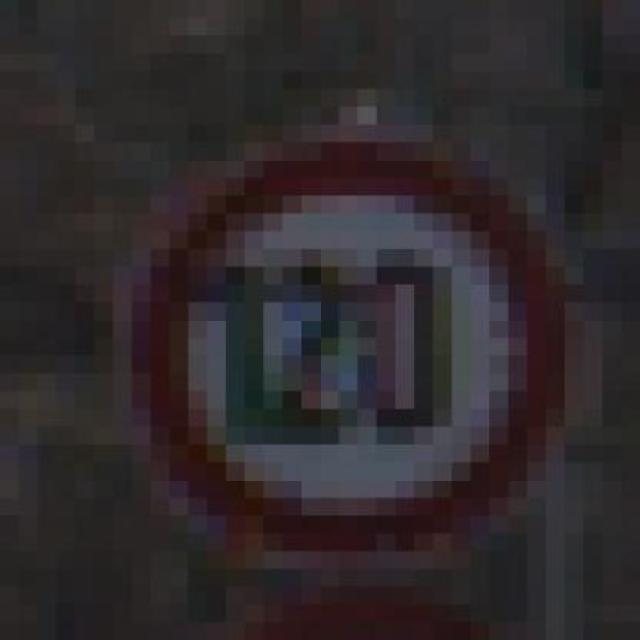forb_speed_over_120: (136, 157, 559, 552)
